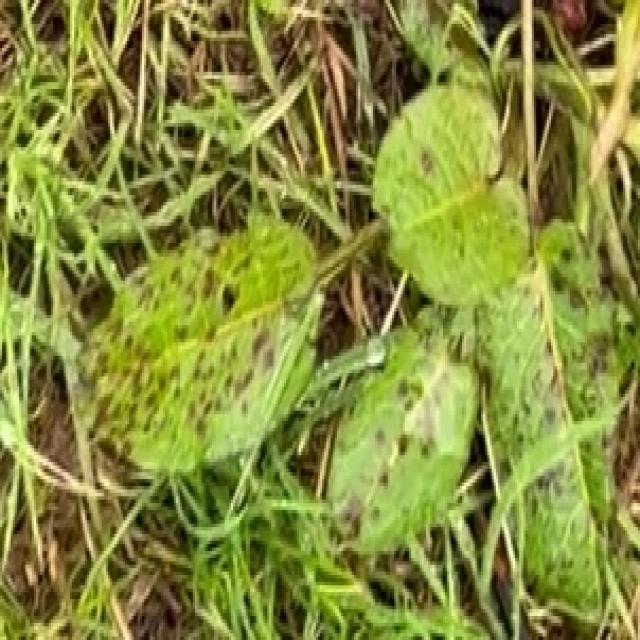organic waste: (135, 40, 640, 600)
